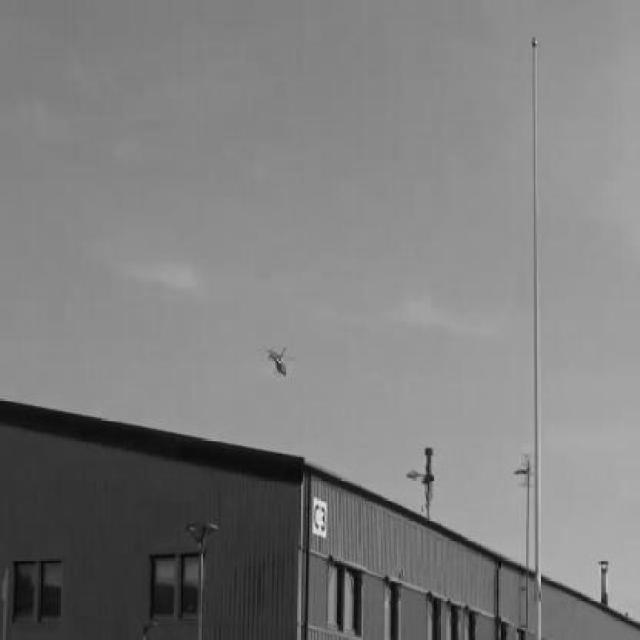helikopter: (264, 344, 287, 378)
